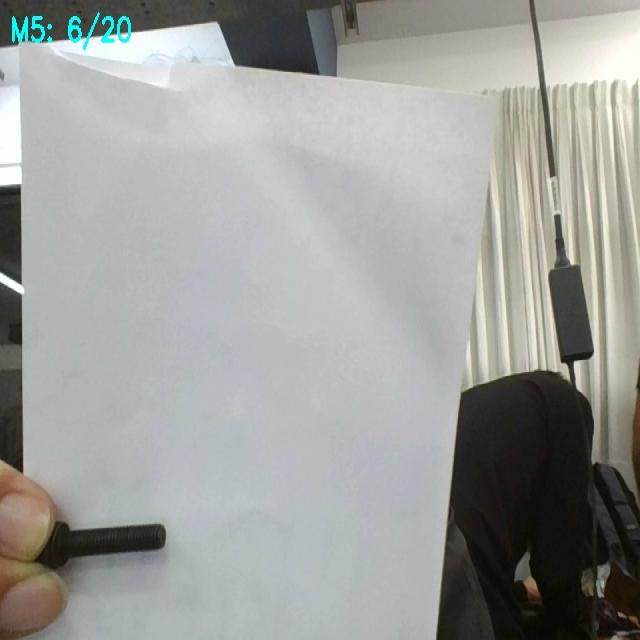vastago: (70, 524, 165, 557)
